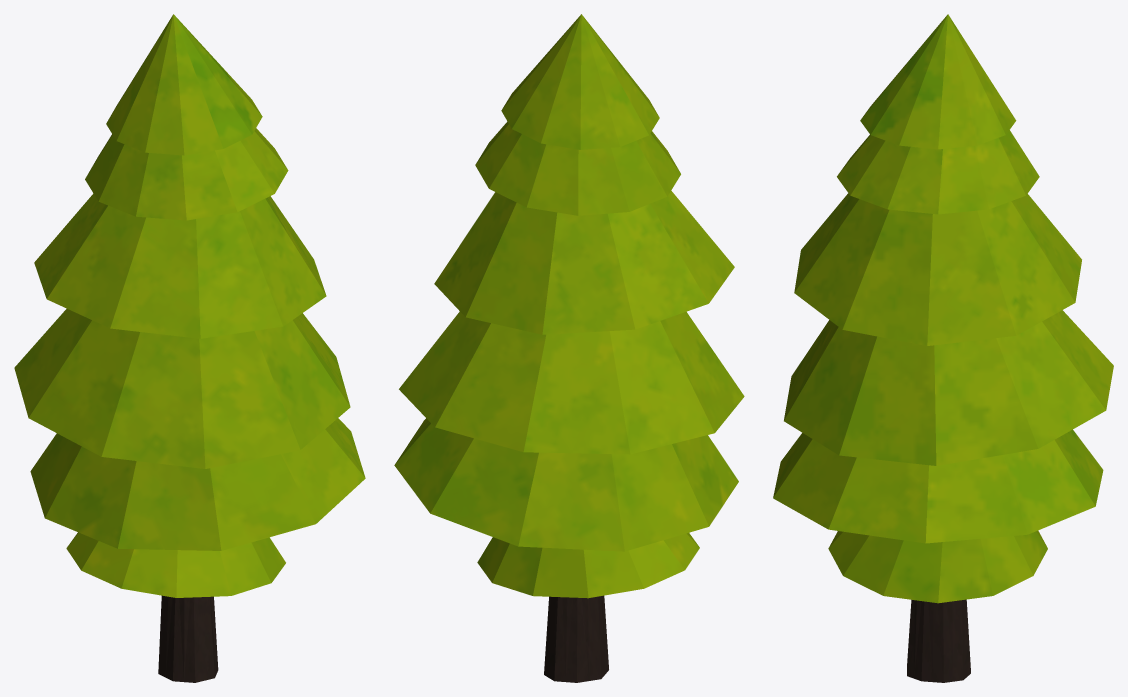
Rendered from tree-bright-green-flowers_2.fbx.
3 renders of one model, left to right at view 1: azimuth 30°, elevation 25°; view 2: azimuth 150°, elevation 25°; view 3: azimuth 270°, elevation 25°, orthographic.
Parts seen in each view (by area): view 1: Cylinder.020; view 2: Cylinder.020; view 3: Cylinder.020.
Part boxes in pixels (box(x1,y1,x2,y2)): Cylinder.020: box(14, 14, 365, 682); Cylinder.020: box(394, 14, 744, 682); Cylinder.020: box(773, 14, 1113, 682).
Size of the model in its own units: 115 by 237 by 112.
